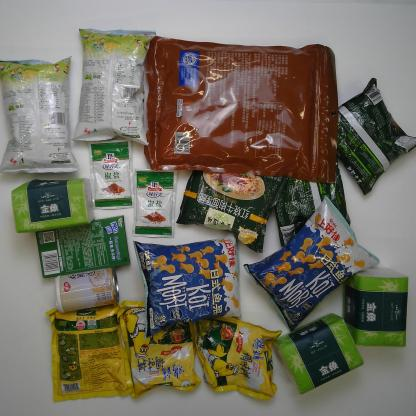Canned Food: (53, 272, 121, 310)
Dessert: (32, 216, 131, 279)
Dried Food: (142, 34, 337, 187)
Instant Noodles: (176, 151, 286, 252), (329, 78, 416, 195), (273, 157, 355, 254)
Puffed Food: (246, 193, 378, 332), (132, 236, 244, 329), (2, 57, 79, 176), (75, 29, 150, 146)
Seasoner: (46, 302, 137, 400), (190, 311, 281, 401), (124, 294, 200, 396), (133, 169, 182, 242), (88, 139, 132, 208)
Tissue: (274, 315, 363, 391), (348, 264, 412, 348), (11, 179, 92, 234)
